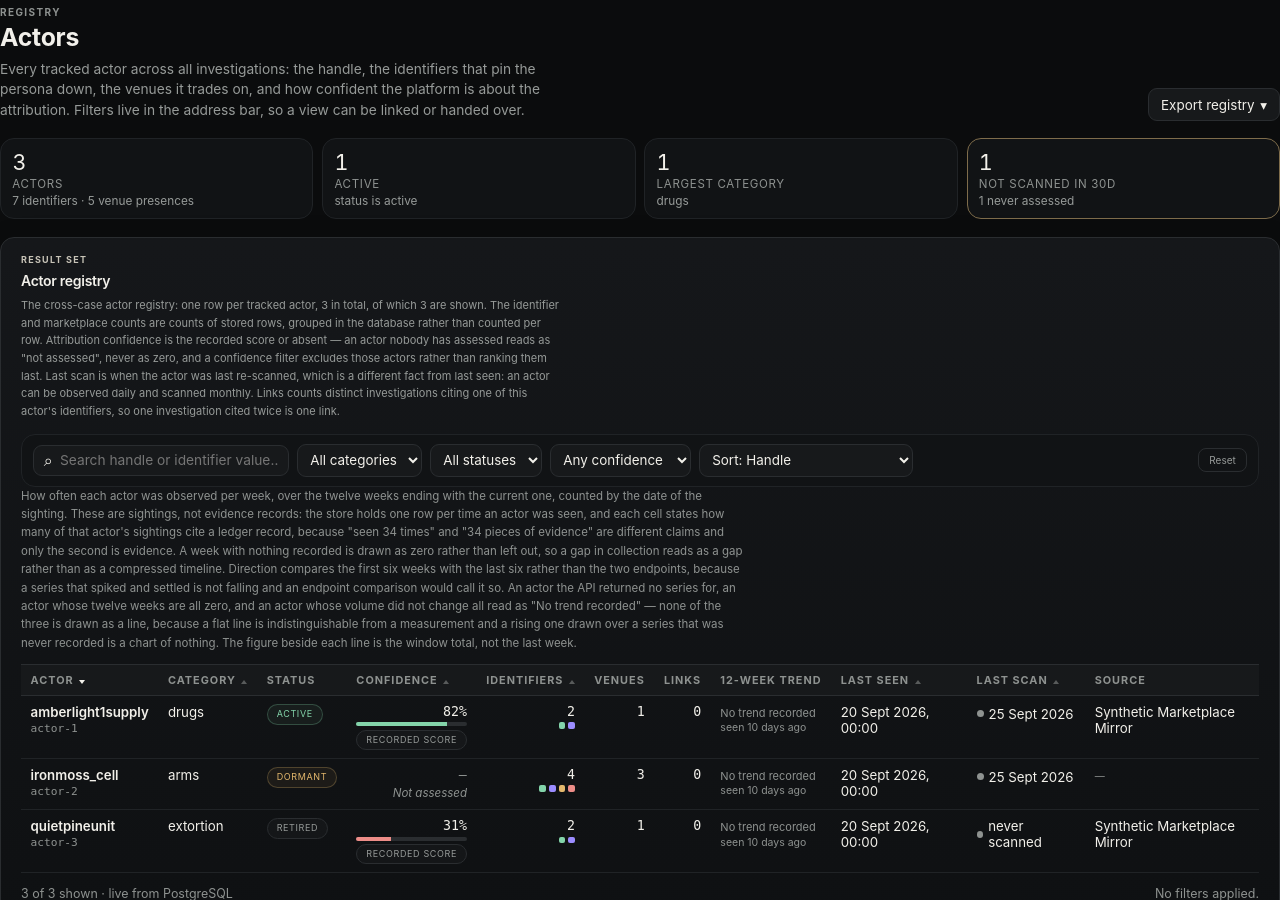
Test: ActorsPage › offers the export control and says it carries the active filters
The image size is (1280, 900).
Click the button "Export registry ▾": (1214, 104) [1148,88,1279,121]
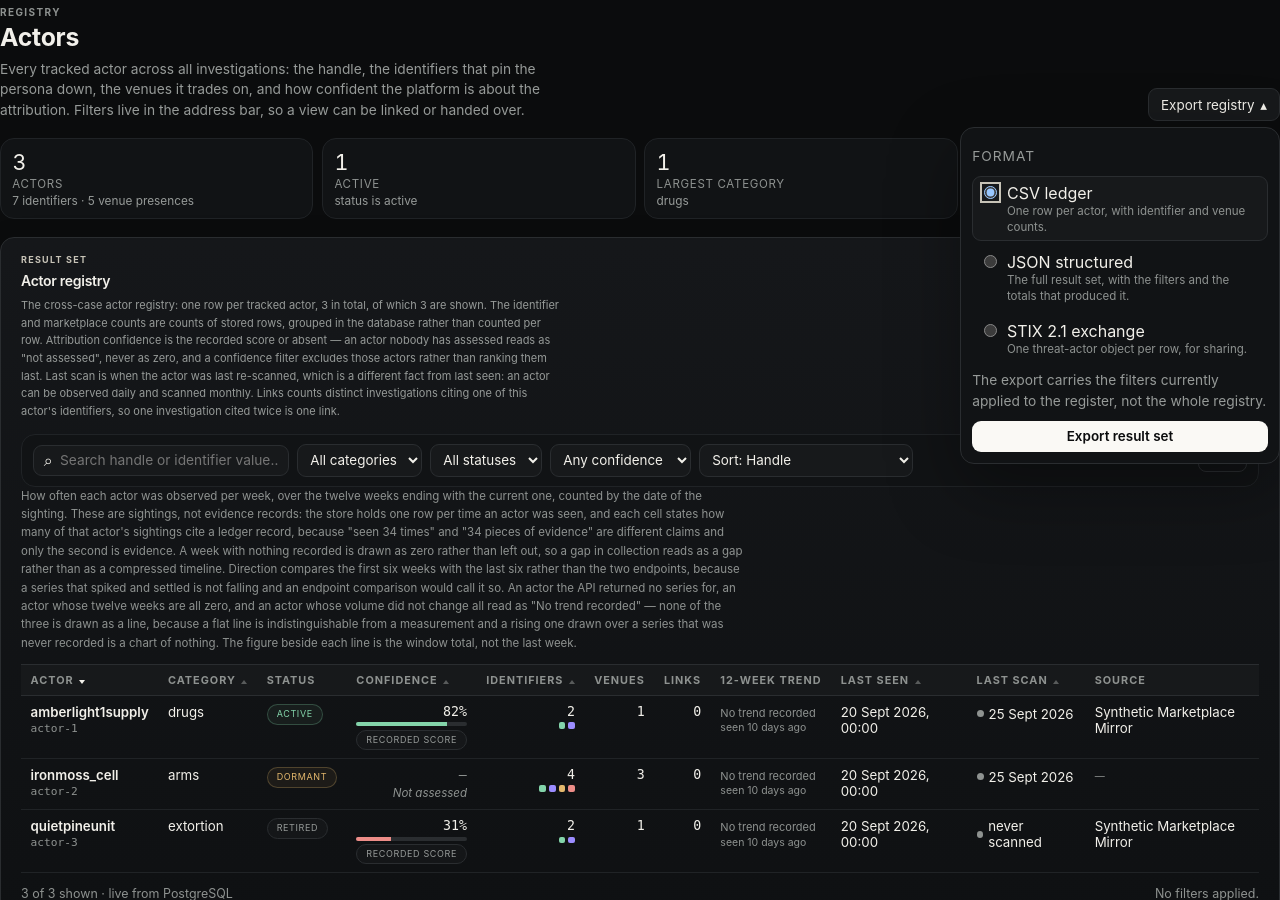
Result: the text "carries the filters currently applied" is shown at [972,372,1266,409]
Result: the radio button labelled "CSV" is shown at [984,186,997,198]
Result: the radio button labelled "STIX" is shown at [984,324,997,337]
